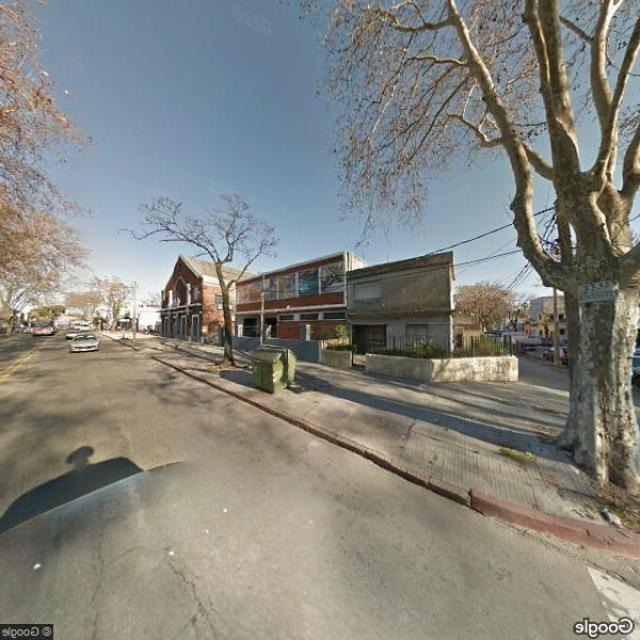garbage container: (241, 337, 304, 402)
